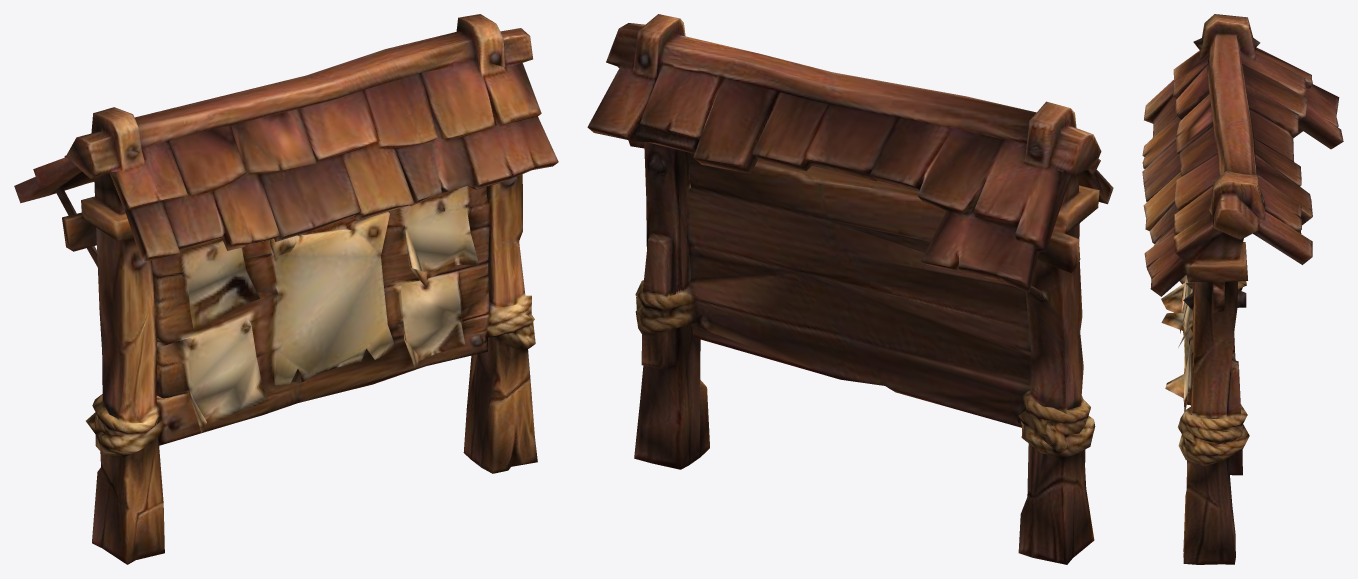
File: prop-notice-board-v2-desktop.glb
The picture shows the model from 3 angles, left to right: view 1: azimuth 30°, elevation 25°; view 2: azimuth 150°, elevation 25°; view 3: azimuth 270°, elevation 25°; orthographic projection. The views are drawn at different scales.
Parts seen in each view (by area): view 1: tripo_node_dccbc77a-4381-4e35-ab4f-065c00020ed0; view 2: tripo_node_dccbc77a-4381-4e35-ab4f-065c00020ed0; view 3: tripo_node_dccbc77a-4381-4e35-ab4f-065c00020ed0.
Part boxes in pixels (x1,y1,x2,y2): tripo_node_dccbc77a-4381-4e35-ab4f-065c00020ed0: [14, 14, 558, 564]; tripo_node_dccbc77a-4381-4e35-ab4f-065c00020ed0: [587, 14, 1113, 564]; tripo_node_dccbc77a-4381-4e35-ab4f-065c00020ed0: [1142, 14, 1343, 564].
Bounding box in the file's own units: 0.9787 × 0.886 × 0.4265.
Materials: 1 (1 with a texture image).
